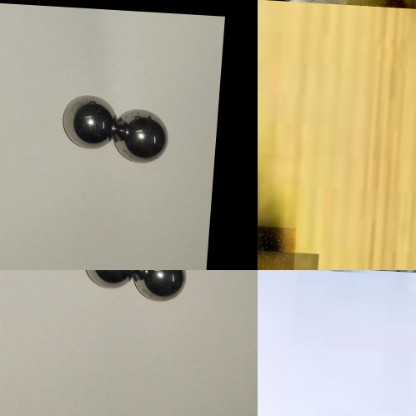ironball: (110, 105, 171, 165), (59, 94, 118, 149), (257, 223, 300, 270), (78, 258, 127, 294), (134, 271, 186, 304)
